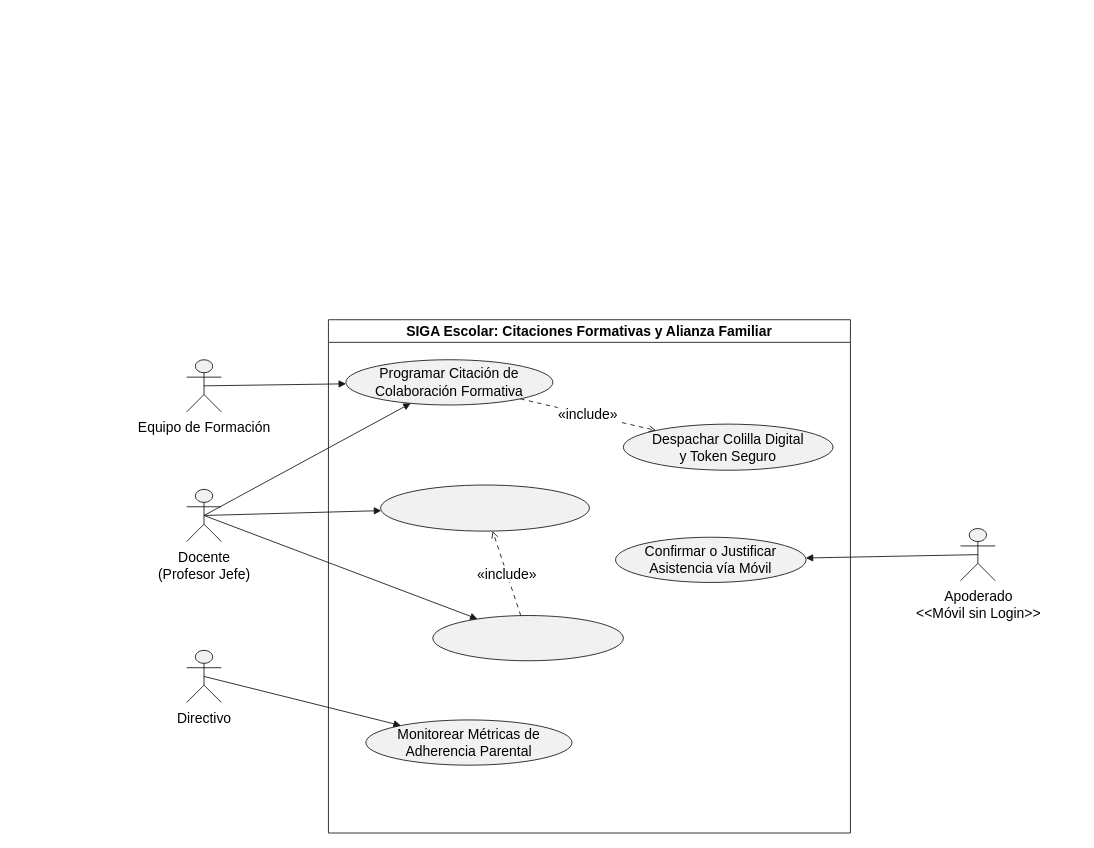
Image size: 1094x848. Some labels were removed from this diagram. The shapes that lost their labels are listed below. From the top down, each one's box as (x1, y1, x2, y2) in pixels, then its label:
(380, 484, 589, 531): Registrar Compromisos Mutuos Familia-Escuela
(432, 615, 623, 661): Emitir Acta Oficial de Citación en PDF
